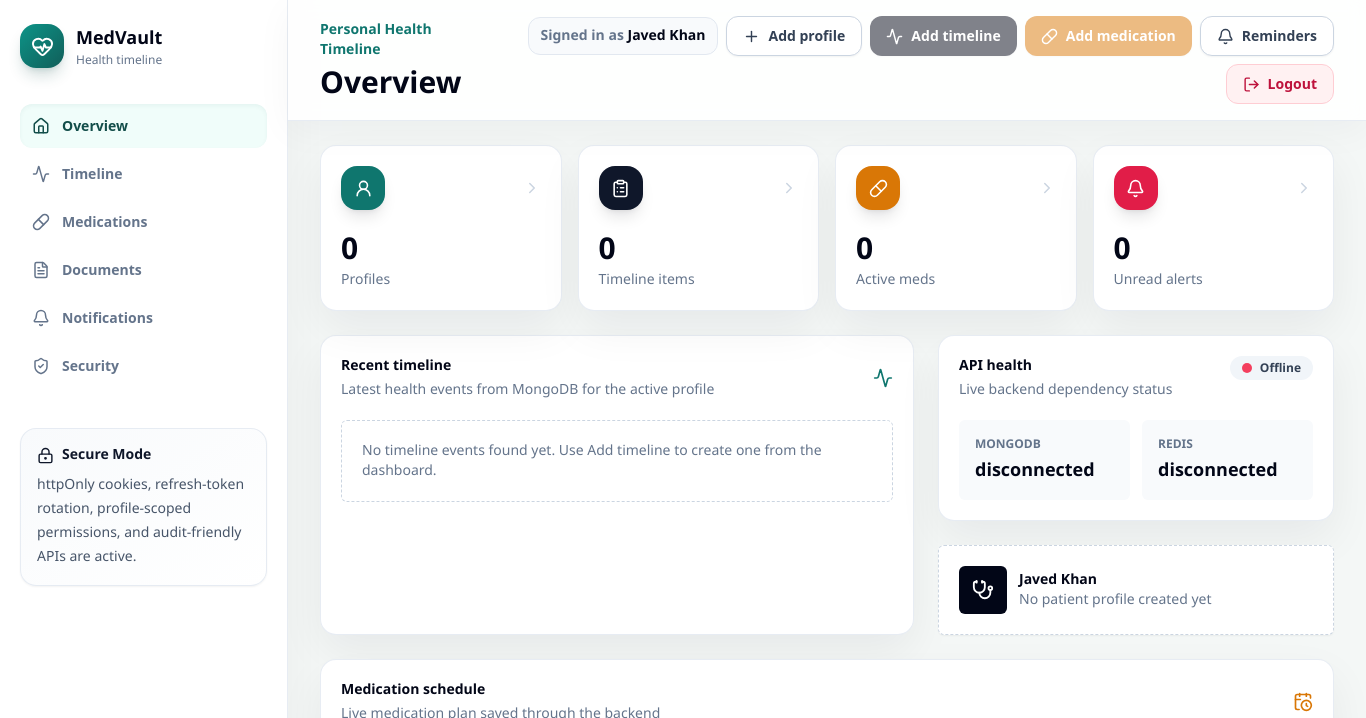
Test case: MedVault dashboard › switches to the timeline workspace after authentication
Expected: the heading "Overview" is shown, [320,64,480,100]
Click the button "Timeline" at point(144, 174), box [20,152,267,196]
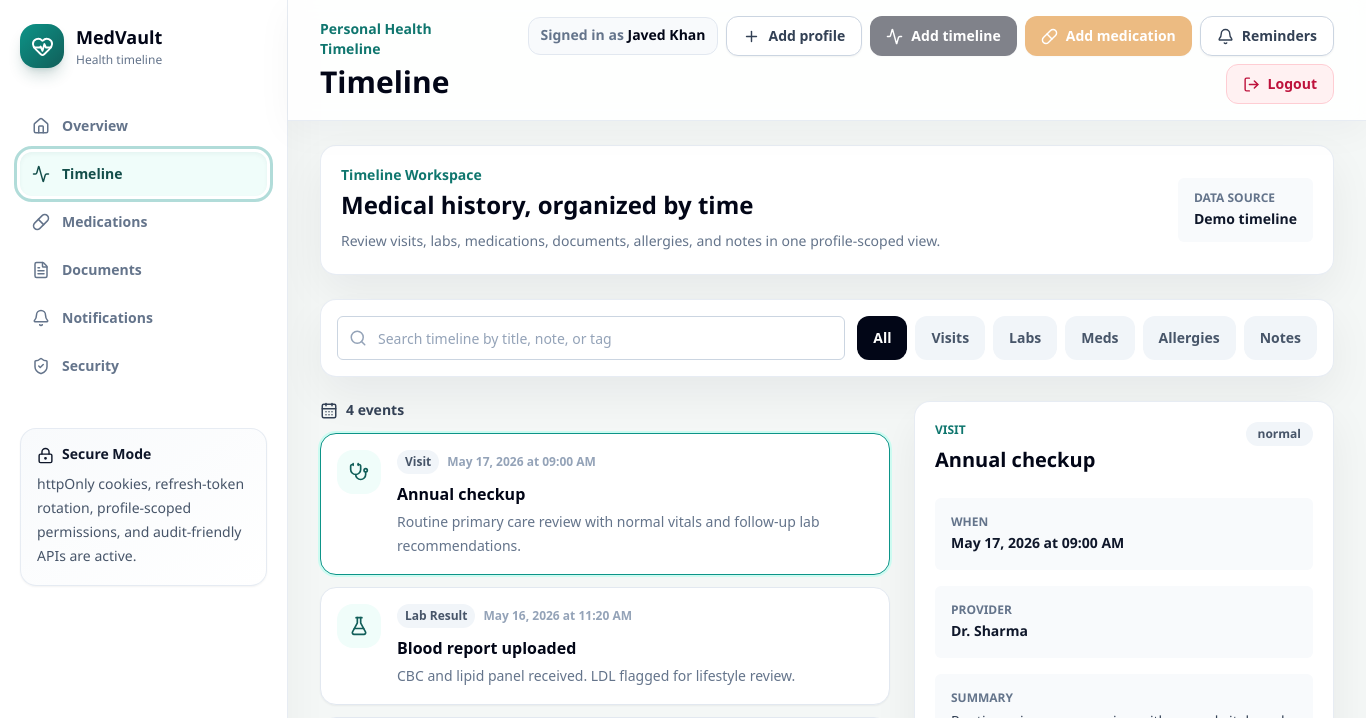
Result: the heading "Timeline" is shown at [320,61,450,102]
Result: the heading "Medical history, organized by time" is shown at [341,189,753,222]
Result: the text "Demo timeline" is shown at [1194,210,1297,230]
